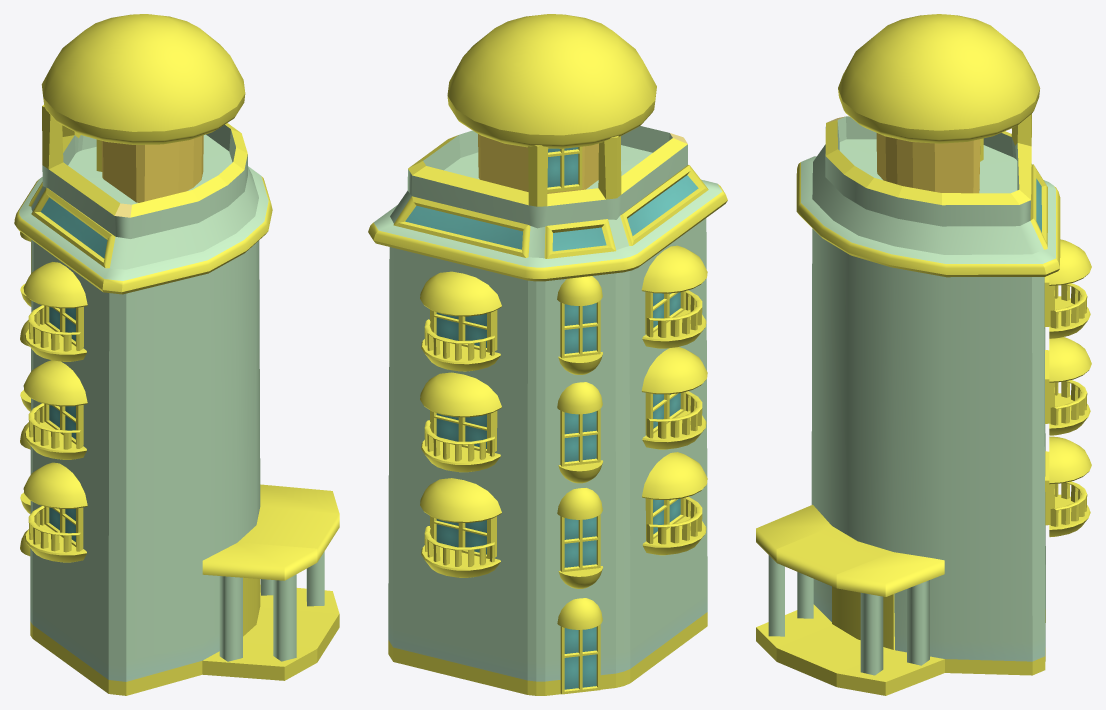
Rendered from SM_Skyscraper_26.fbx.
3 renders of one model, left to right at view 1: azimuth 30°, elevation 25°; view 2: azimuth 150°, elevation 25°; view 3: azimuth 270°, elevation 25°, orthographic. The views are drawn at different scales.
Visible parts, largest first — view 1: SM_Skyscraper_26; view 2: SM_Skyscraper_26; view 3: SM_Skyscraper_26.
Boxes of the visible parts, left/top/right/bottom form: SM_Skyscraper_26: left=14, top=14, right=339, bottom=695; SM_Skyscraper_26: left=368, top=14, right=727, bottom=695; SM_Skyscraper_26: left=756, top=14, right=1091, bottom=695.
Size of the model in its own units: 910 by 1800 by 916.
